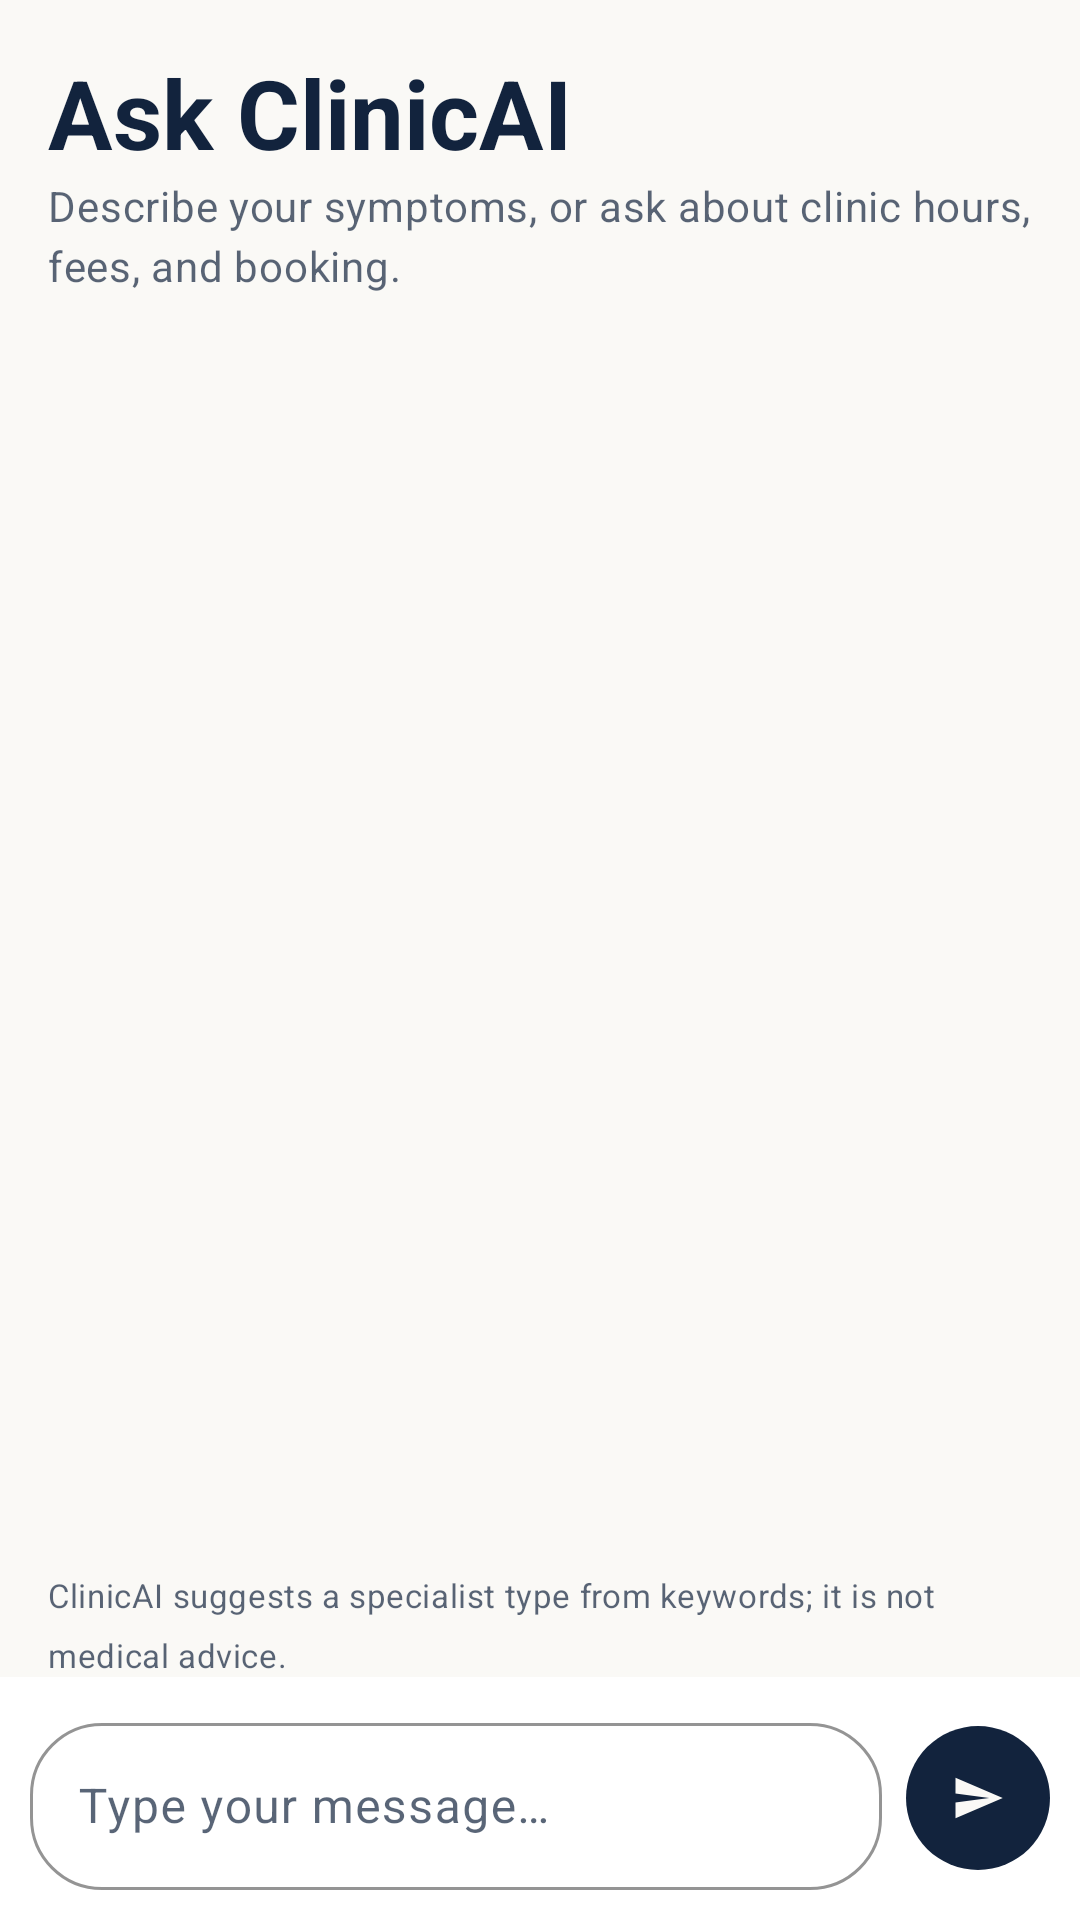

Where to tap for icons on this 1080*1920 app screen, as point (x, y):
Send: point (978, 1798)
